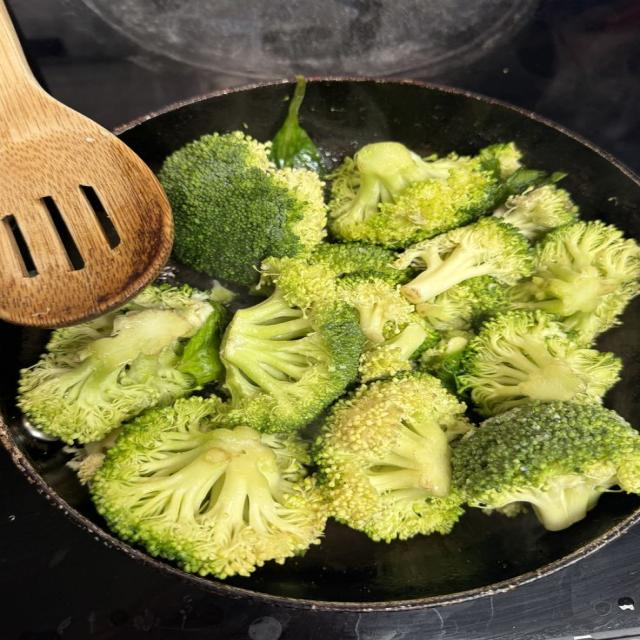broccoli: (91, 397, 325, 578), (18, 286, 226, 442), (314, 374, 471, 541), (159, 132, 326, 285), (453, 402, 639, 530), (220, 288, 365, 432), (329, 143, 499, 247), (457, 311, 621, 415), (510, 221, 639, 343), (396, 217, 533, 304), (337, 273, 439, 381), (256, 243, 410, 302), (338, 273, 419, 343), (270, 76, 326, 174), (416, 276, 508, 331), (494, 184, 578, 242), (360, 322, 439, 382), (255, 256, 336, 309), (309, 242, 410, 283), (418, 330, 473, 394), (64, 428, 120, 484), (480, 142, 521, 180)
